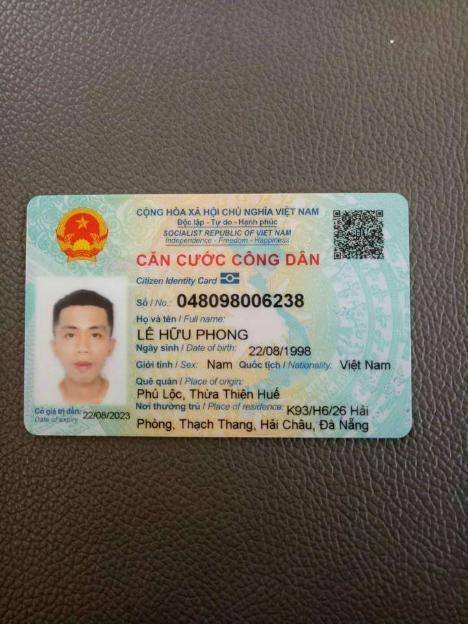ID: (172, 289, 312, 315)
birth: (242, 343, 315, 359)
name: (131, 324, 252, 343)
place: (131, 386, 288, 401)
residence: (133, 415, 371, 436), (282, 400, 371, 417)
